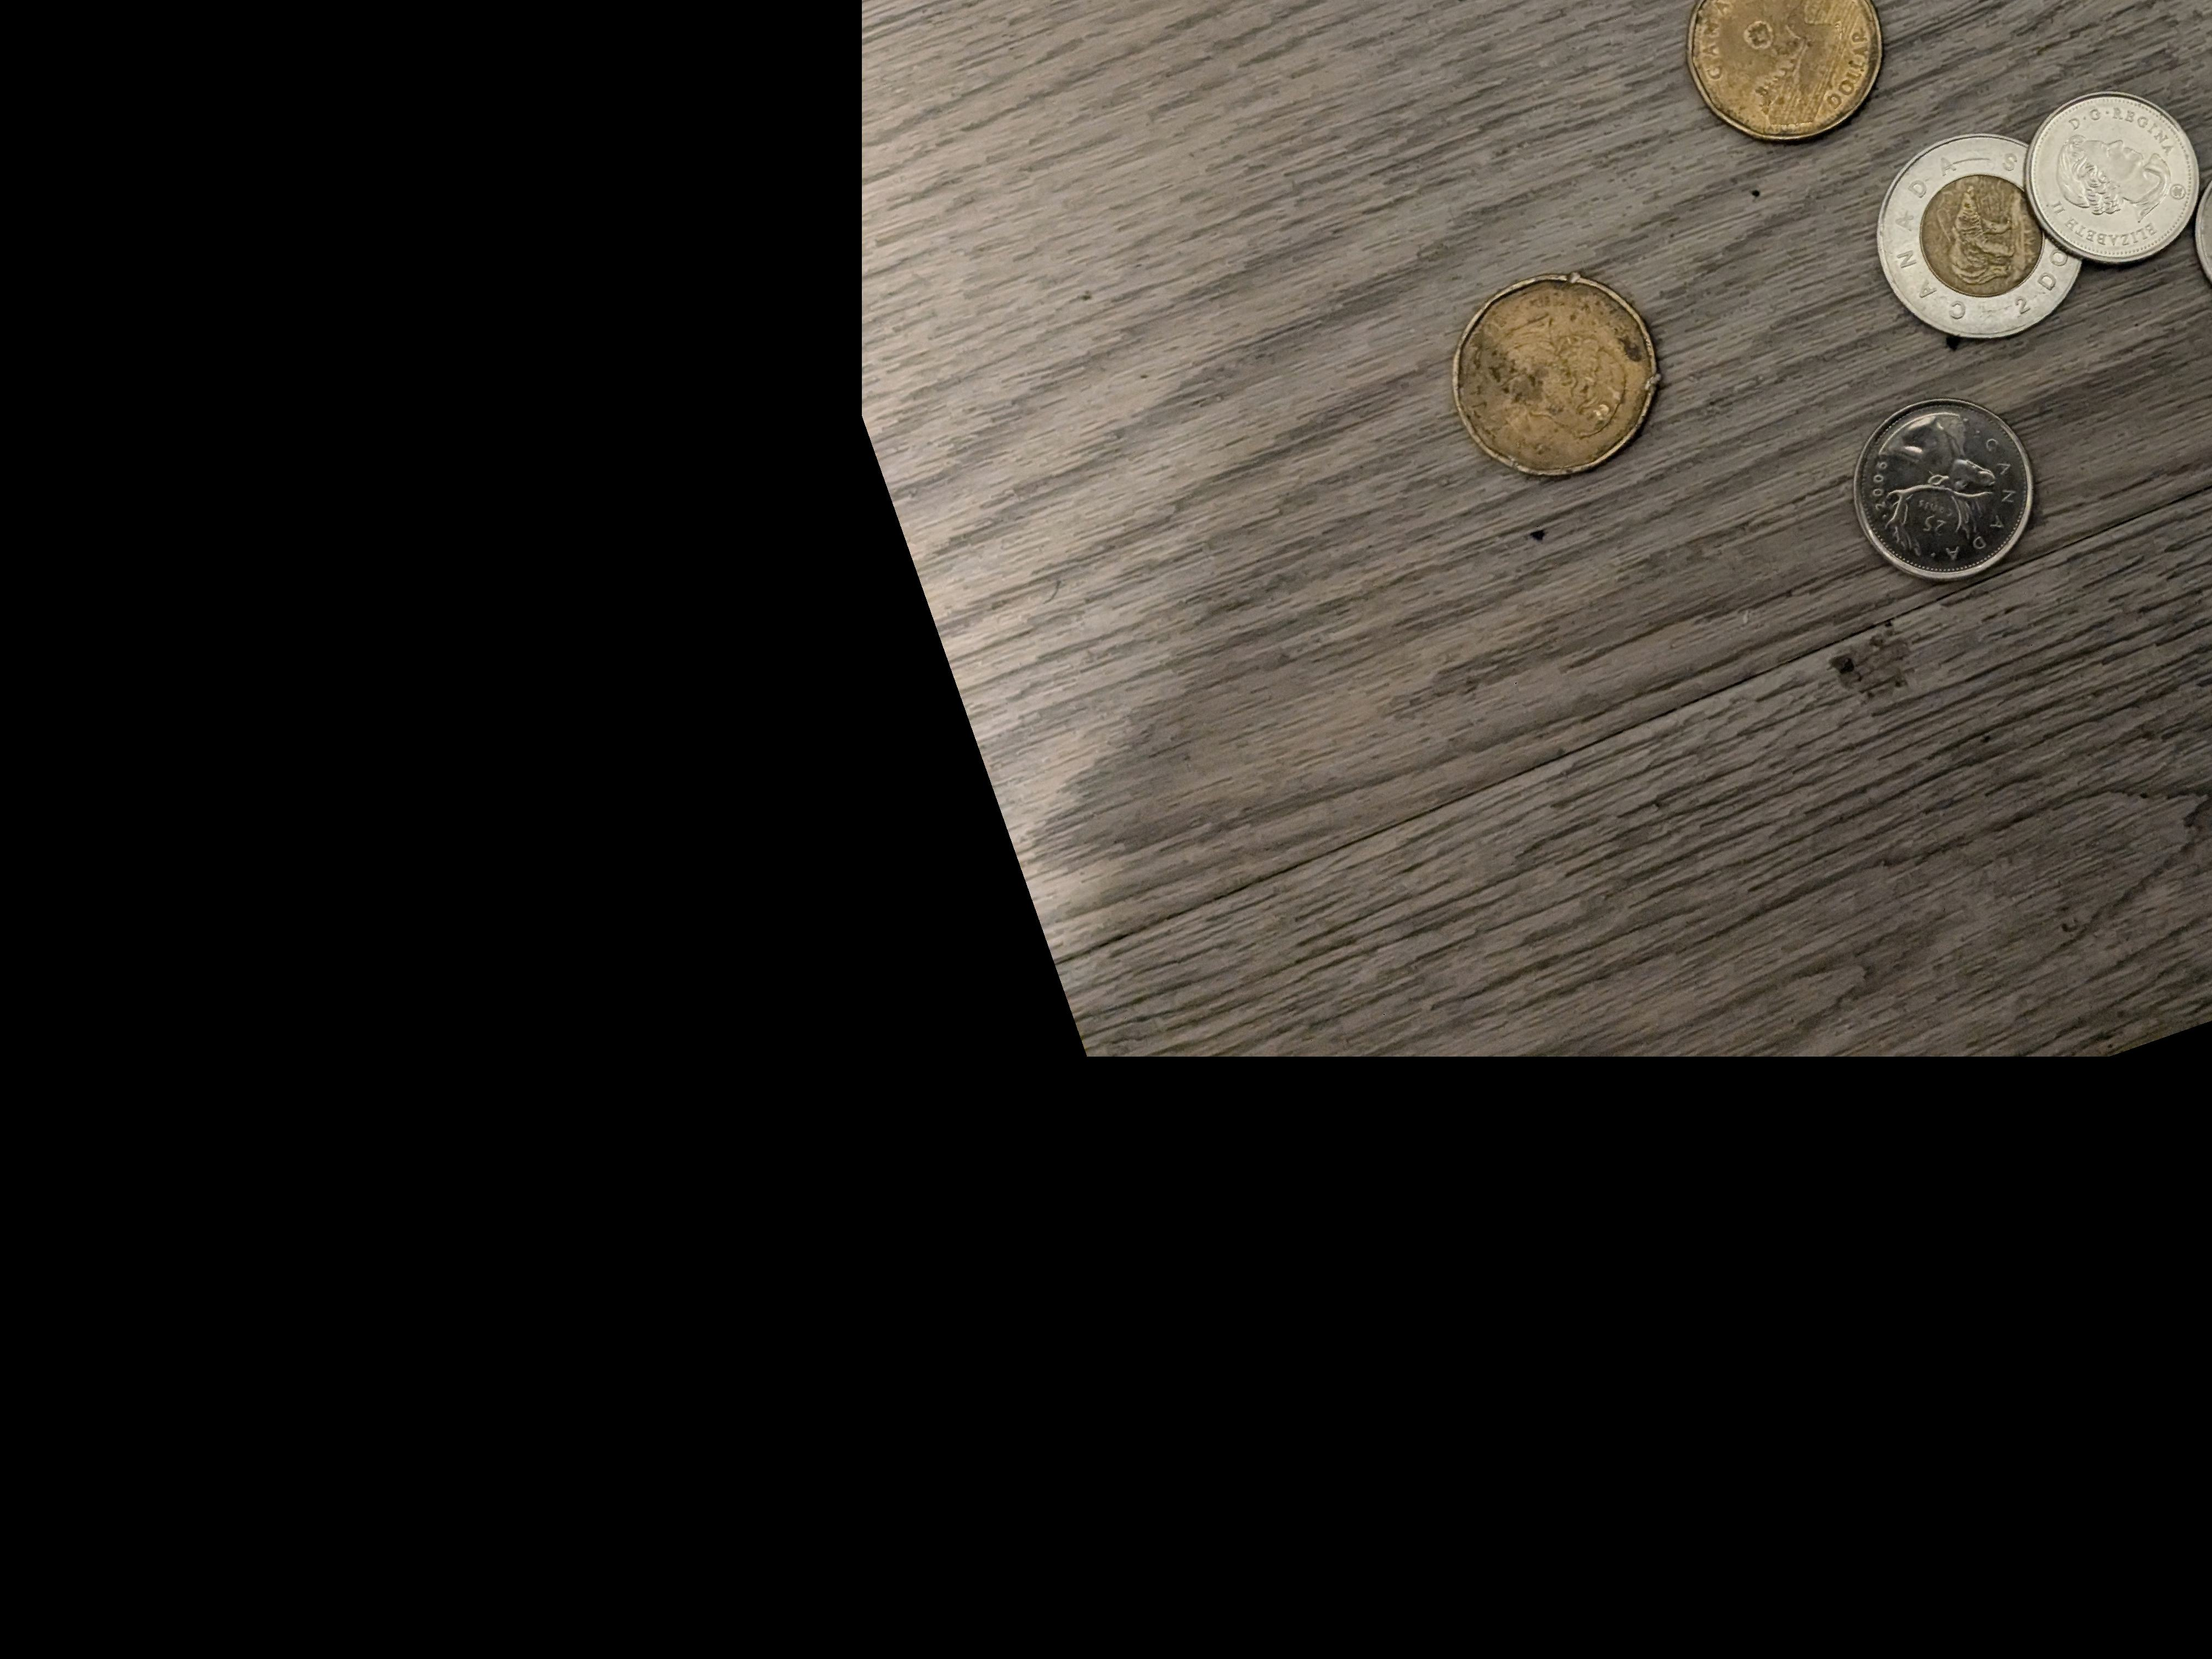loonie: (1449, 277, 1658, 483), (1683, 0, 1883, 146)
quarter: (1857, 397, 2034, 577), (2029, 89, 2198, 265)
toonie: (1878, 131, 2081, 342)
